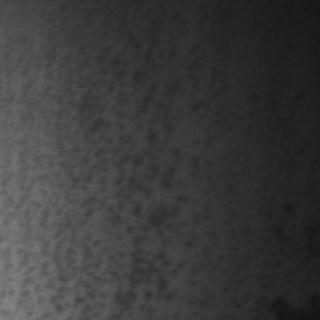pitted_surface: (0, 24, 244, 316)
